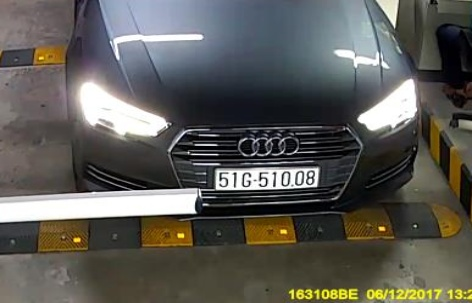plate: (207, 159, 329, 196)
